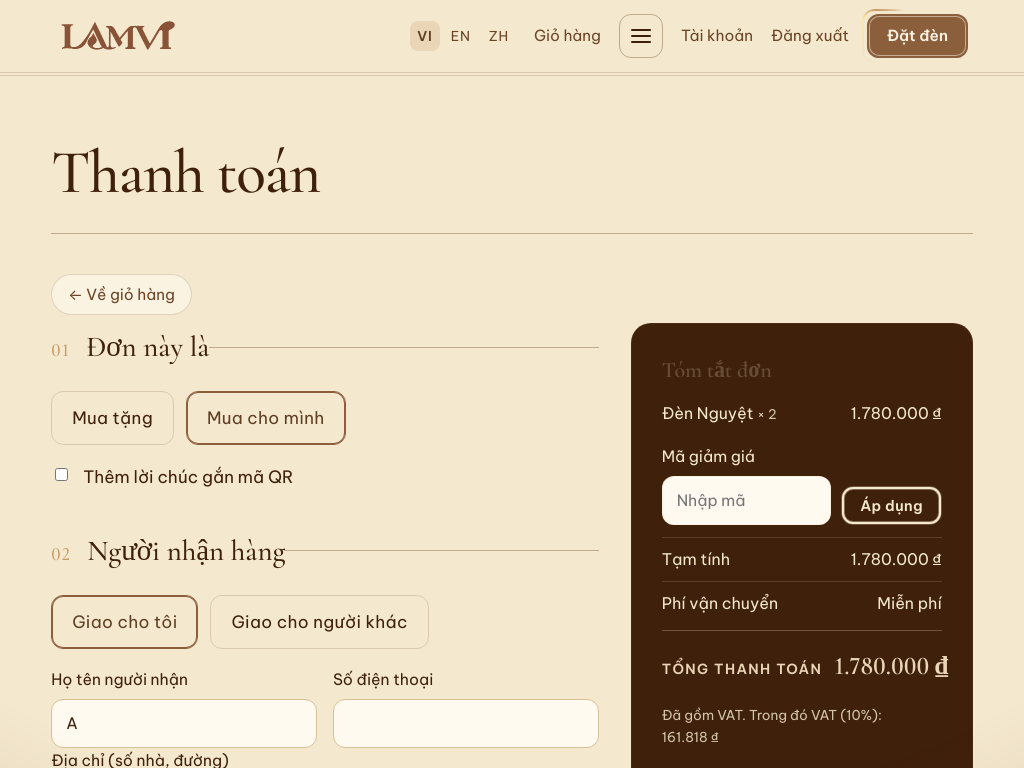
Scenario: Loại đơn và lời chúc (FR-CHK-002/003/005) › đơn tự mua tích "Thêm lời chúc" → cũng phải chọn ngôn ngữ trang QR
Check: the heading "Tóm tắt đơn" is shown, box left=662, top=357, right=771, bottom=383
Click the checkbox labelled "Thêm lời chúc gắn mã QR". click: (62, 475)
box: left=55, top=468, right=68, bottom=481
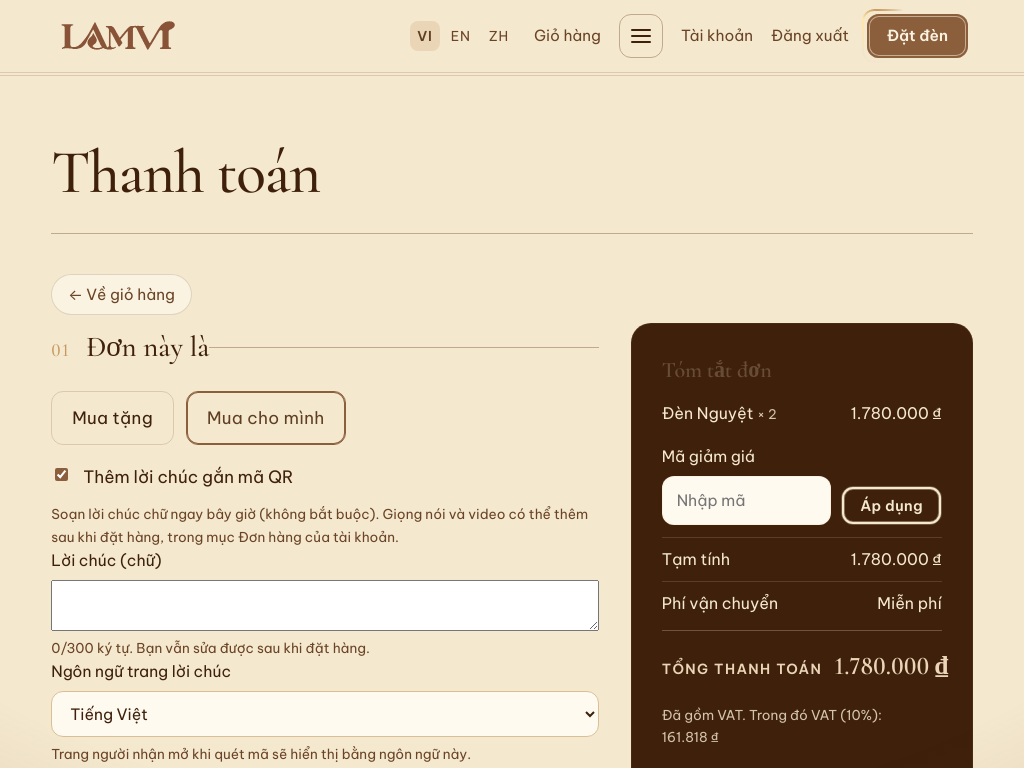
Check: the dropdown labelled "Ngôn ngữ trang lời chúc" is shown, box left=51, top=691, right=599, bottom=737
